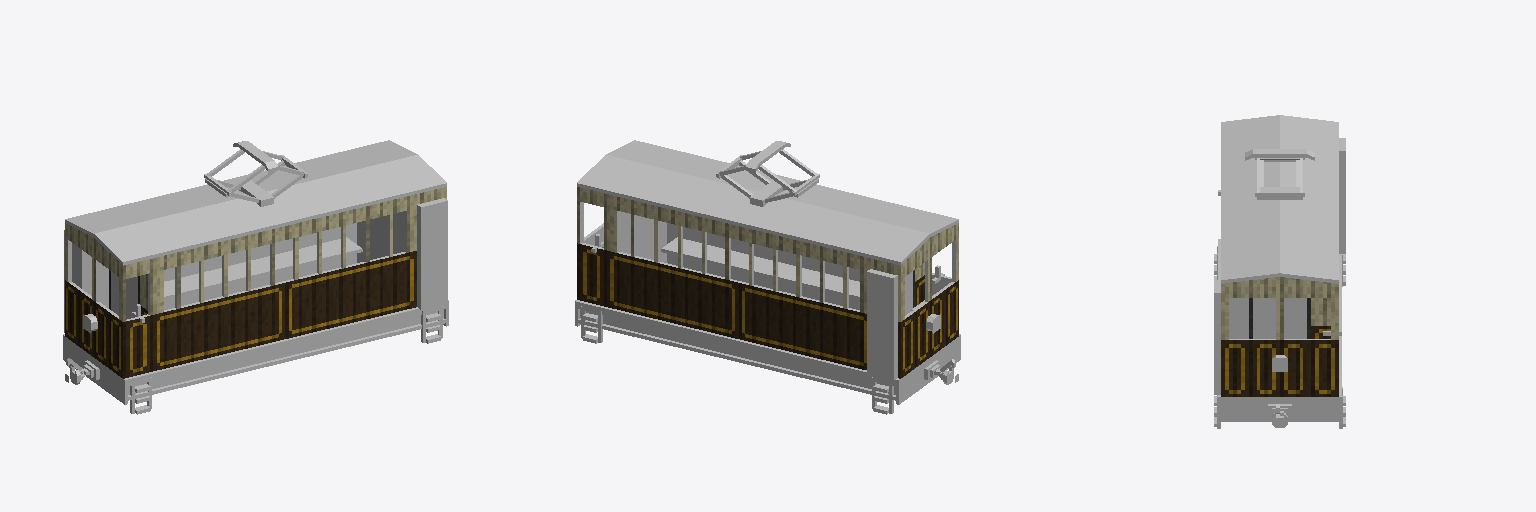
The picture shows the model from 3 angles: view 1: azimuth 30°, elevation 25°; view 2: azimuth 150°, elevation 25°; view 3: azimuth 270°, elevation 25°; orthographic projection.
Parts seen in each view (by area): view 1: SHELL_WOOD_roof_Cube.013, SHELL_WOOD.001_Cube.016, SHELL_WOOD_Cube.019, SHELL_WOOD_cab_Cube.046, SHELL_WOOD_INTERIOR.001_Cube.002, DOOR_8_Cube.001, FRAME_Cube.038, FRAME.001_Cube.006, FRAME_cab_Cube.055, SHELL_WOOD_cab_roof_Cube.067, SHELL_WOOD_INTERIOR_Cube.002, SHELL_WOOD_cab_roof.001_Cube.064 (+4 smaller); view 2: SHELL_WOOD_roof_Cube.013, SHELL_WOOD.001_Cube.016, SHELL_WOOD_Cube.019, SHELL_WOOD_cab_Cube.046, SHELL_WOOD_INTERIOR.001_Cube.002, DOOR_6_Cube.028, FRAME_Cube.038, FRAME.001_Cube.006, SHELL_WOOD_cab.001_Cube.034, SHELL_WOOD_cab_roof_Cube.067, FRAME_cab_Cube.055, SHELL_WOOD_cab_roof.001_Cube.064 (+4 smaller); view 3: SHELL_WOOD_roof_Cube.013, SHELL_WOOD_cab.001_Cube.034, FRAME_cab.001_Cube.062, SHELL_WOOD_cab_roof.001_Cube.064, SHELL_WOOD_cab_roof_Cube.067, DOOR_8_Cube.001, SHELL_WOOD_INTERIOR_cab.001_Cube.018, DOOR_3_INTERIOR_Cube.008, DOOR_6_Cube.028, DOOR_4_INTERIOR_Cube.012, pantohead.
Boxes of the visible parts, x1=… form: SHELL_WOOD_roof_Cube.013: x1=97, y1=148, x2=414, y2=257; SHELL_WOOD.001_Cube.016: x1=284, y1=195, x2=414, y2=338; SHELL_WOOD_Cube.019: x1=155, y1=226, x2=284, y2=370; SHELL_WOOD_cab_Cube.046: x1=65, y1=223, x2=154, y2=378; SHELL_WOOD_INTERIOR.001_Cube.002: x1=229, y1=211, x2=404, y2=293; DOOR_8_Cube.001: x1=417, y1=198, x2=447, y2=309; FRAME_Cube.038: x1=155, y1=339, x2=286, y2=393; FRAME.001_Cube.006: x1=285, y1=308, x2=416, y2=361; FRAME_cab_Cube.055: x1=63, y1=334, x2=156, y2=414; SHELL_WOOD_cab_roof_Cube.067: x1=65, y1=212, x2=154, y2=265; SHELL_WOOD_INTERIOR_Cube.002: x1=164, y1=254, x2=243, y2=309; SHELL_WOOD_cab_roof.001_Cube.064: x1=358, y1=140, x2=446, y2=193; SHELL_WOOD_roof_Cube.013: x1=609, y1=148, x2=926, y2=257; SHELL_WOOD.001_Cube.016: x1=609, y1=195, x2=739, y2=338; SHELL_WOOD_Cube.019: x1=739, y1=226, x2=868, y2=369; SHELL_WOOD_cab_Cube.046: x1=869, y1=223, x2=958, y2=378; SHELL_WOOD_INTERIOR.001_Cube.002: x1=619, y1=211, x2=794, y2=293; DOOR_6_Cube.028: x1=867, y1=269, x2=910, y2=380; FRAME_Cube.038: x1=737, y1=339, x2=868, y2=393; FRAME.001_Cube.006: x1=607, y1=308, x2=738, y2=361; SHELL_WOOD_cab.001_Cube.034: x1=577, y1=187, x2=608, y2=307; SHELL_WOOD_cab_roof_Cube.067: x1=869, y1=212, x2=958, y2=265; FRAME_cab_Cube.055: x1=867, y1=334, x2=960, y2=414; SHELL_WOOD_cab_roof.001_Cube.064: x1=577, y1=140, x2=665, y2=193; SHELL_WOOD_roof_Cube.013: x1=1221, y1=131, x2=1338, y2=264; SHELL_WOOD_cab.001_Cube.034: x1=1221, y1=277, x2=1338, y2=396; FRAME_cab.001_Cube.062: x1=1214, y1=381, x2=1345, y2=428; SHELL_WOOD_cab_roof.001_Cube.064: x1=1221, y1=258, x2=1338, y2=283; SHELL_WOOD_cab_roof_Cube.067: x1=1221, y1=115, x2=1338, y2=137; DOOR_8_Cube.001: x1=1214, y1=280, x2=1248, y2=394; SHELL_WOOD_INTERIOR_cab.001_Cube.018: x1=1249, y1=298, x2=1330, y2=338; DOOR_3_INTERIOR_Cube.008: x1=1284, y1=298, x2=1306, y2=338; DOOR_6_Cube.028: x1=1339, y1=138, x2=1345, y2=253; DOOR_4_INTERIOR_Cube.012: x1=1254, y1=298, x2=1275, y2=338; pantohead: x1=1245, y1=149, x2=1314, y2=160.
Size of the model in its own units: 7 by 3.69 by 2.12.
4 materials, 1 textured.